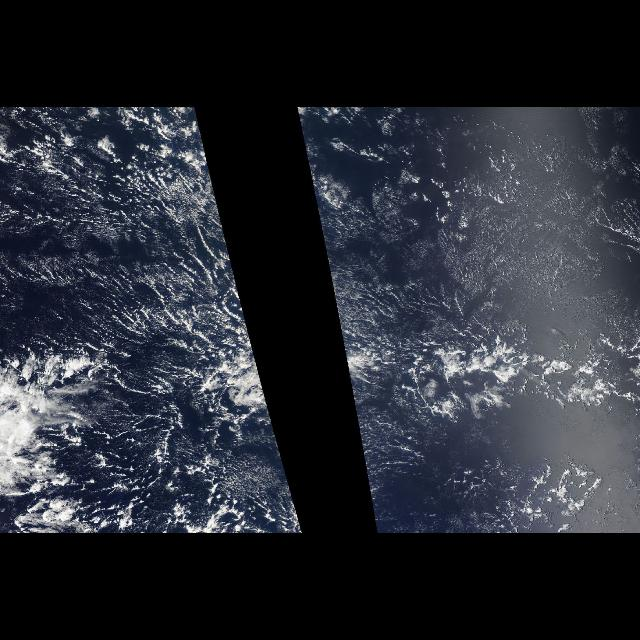Fish: (328, 268, 636, 442), (125, 268, 279, 442)
Gravel: (0, 110, 226, 304), (69, 366, 225, 530)
Sugar: (317, 115, 639, 341), (13, 212, 251, 338)
